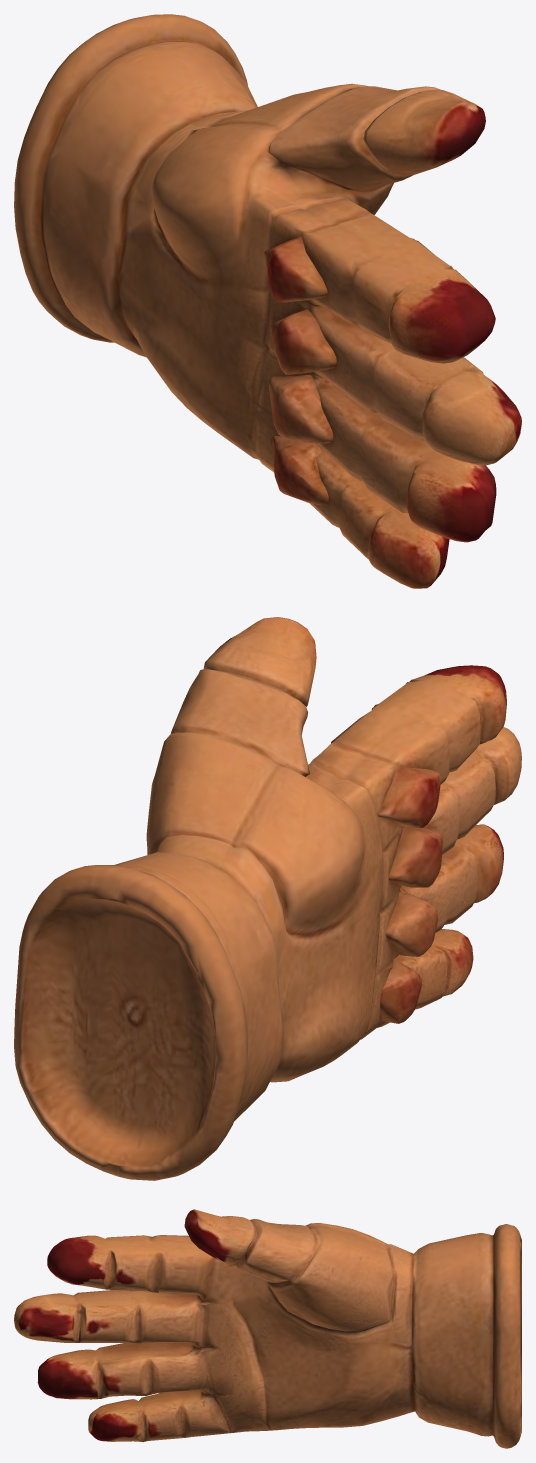
Rendered from glove.glb.
3 renders of one model, top to bottom at view 1: azimuth 30°, elevation 25°; view 2: azimuth 150°, elevation 25°; view 3: azimuth 270°, elevation 25°, orthographic. The views are drawn at different scales.
Parts seen in each view (by area): view 1: tripo_node_f35adf80-004c-4a31-9cb7-1d08ace033fc; view 2: tripo_node_f35adf80-004c-4a31-9cb7-1d08ace033fc; view 3: tripo_node_f35adf80-004c-4a31-9cb7-1d08ace033fc.
Part boxes in pixels (box(x1,y1,x2,y2)): tripo_node_f35adf80-004c-4a31-9cb7-1d08ace033fc: box(14, 14, 521, 588); tripo_node_f35adf80-004c-4a31-9cb7-1d08ace033fc: box(14, 617, 521, 1180); tripo_node_f35adf80-004c-4a31-9cb7-1d08ace033fc: box(14, 1209, 521, 1448).
Bounding box in the file's own units: 0.3647 × 0.5718 × 0.9995.
1 material, 1 textured.
